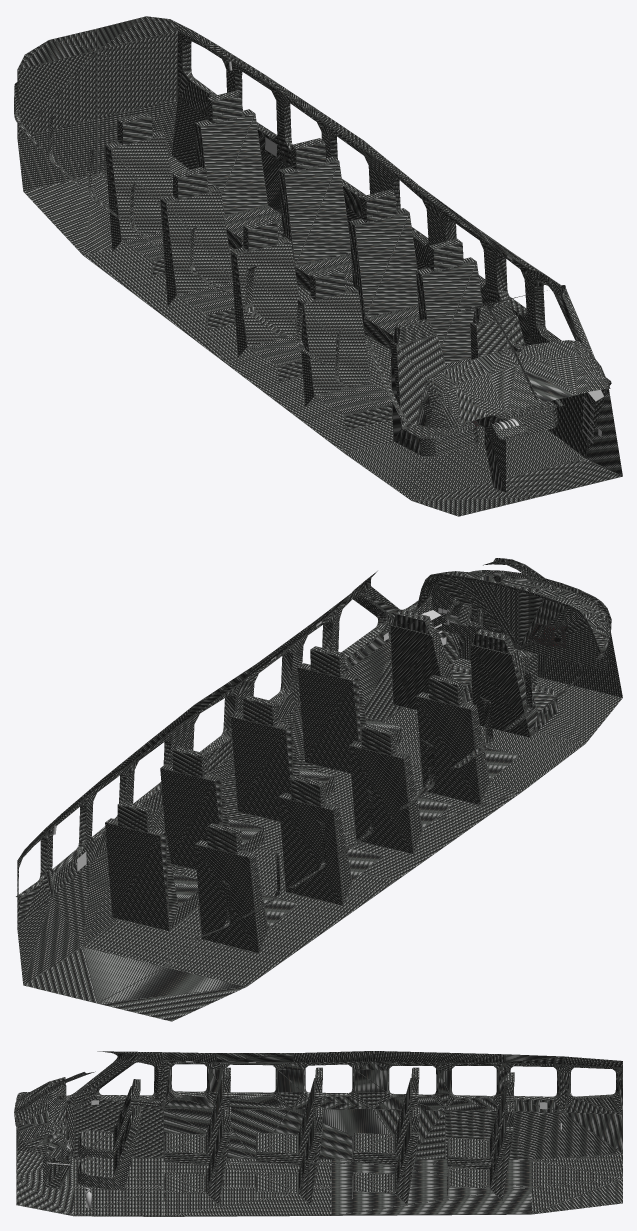
File: 208B_GRAND_CARAVAN_EX_INTERIOR_LOD04.gltf
The picture shows the model from 3 angles, top to bottom: view 1: azimuth 30°, elevation 25°; view 2: azimuth 150°, elevation 25°; view 3: azimuth 270°, elevation 25°; orthographic projection. The views are drawn at different scales.
Parts seen in each view (by area): view 1: MAIN_PANEL; view 2: MAIN_PANEL; view 3: MAIN_PANEL.
Boxes of the visible parts, x1=… form: MAIN_PANEL: x1=14, y1=16, x2=622, y2=516; MAIN_PANEL: x1=16, y1=558, x2=622, y2=1021; MAIN_PANEL: x1=14, y1=1051, x2=622, y2=1216.
Size of the model in its own units: 1.77 by 1.4 by 6.42.
